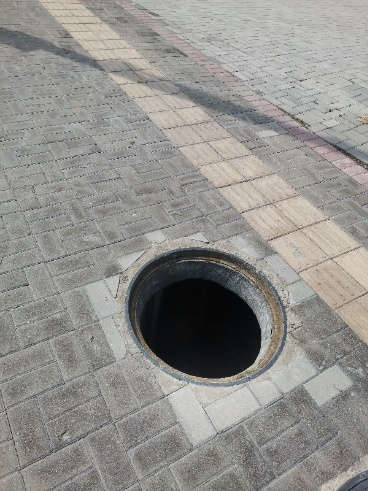lose: (126, 247, 289, 386)
